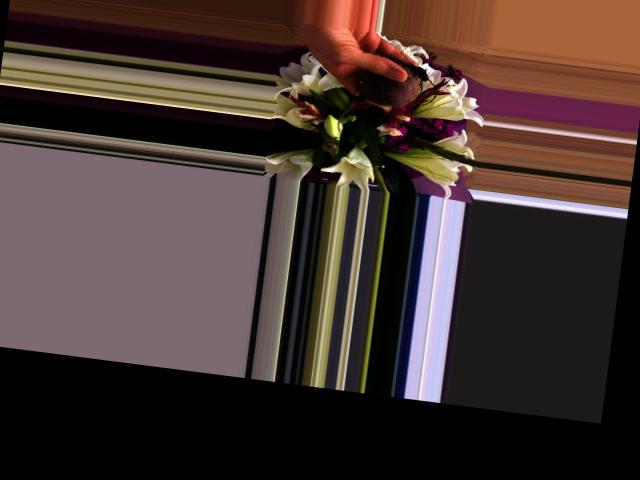beet: (336, 56, 440, 143)
